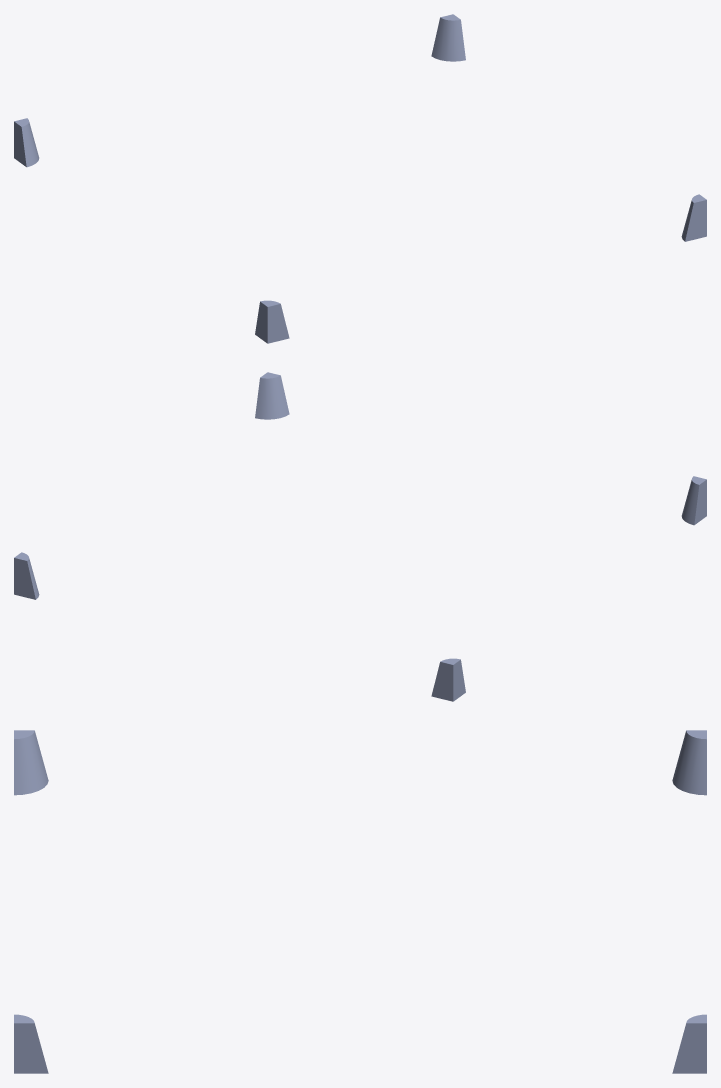
Rendered from road-crossroad-barrier.glb.
3 views of the same model, one above another, from view 1: azimuth 30°, elevation 25°; view 2: azimuth 150°, elevation 25°; view 3: azimuth 270°, elevation 25° (orthographic). The views are drawn at different scales.
Parts seen in each view (by area): view 1: road-crossroad-barrier; view 2: road-crossroad-barrier; view 3: road-crossroad-barrier.
Part boxes in pixels (bbox=[...]): road-crossroad-barrier: bbox=[14, 14, 706, 343]; road-crossroad-barrier: bbox=[14, 372, 706, 701]; road-crossroad-barrier: bbox=[14, 730, 706, 1073].
Bounding box in the file's own units: 1 × 0.08 × 1.
Materials: 1 (1 with a texture image).
